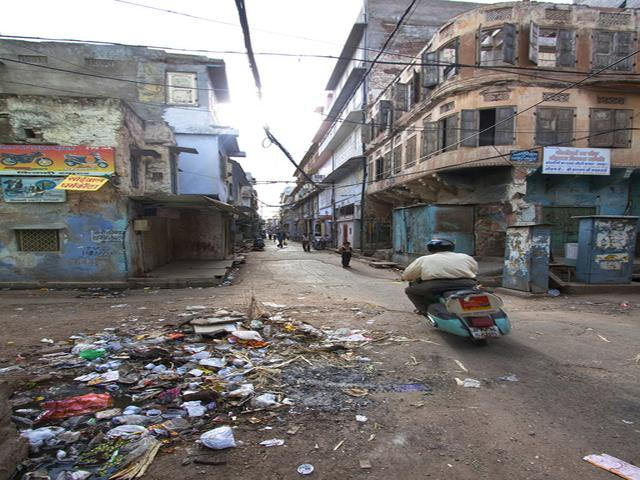garbage: (60, 323, 330, 462)
